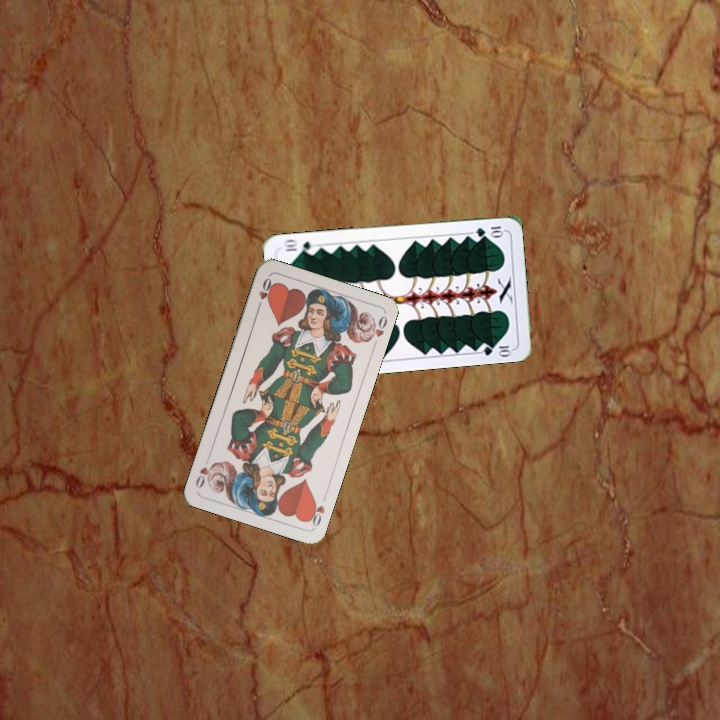G10: (472, 222, 506, 239)
HO: (304, 490, 329, 530), (253, 274, 276, 313)
